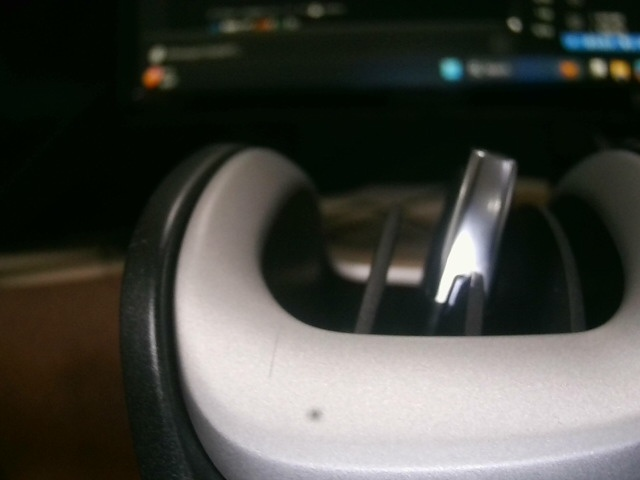NG: (263, 324, 288, 388), (129, 227, 157, 275)
